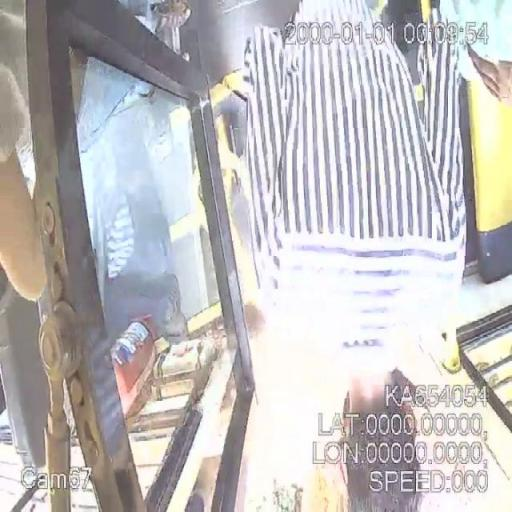persona: (240, 0, 466, 512)
